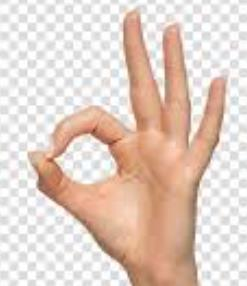left: (26, 8, 231, 271)
